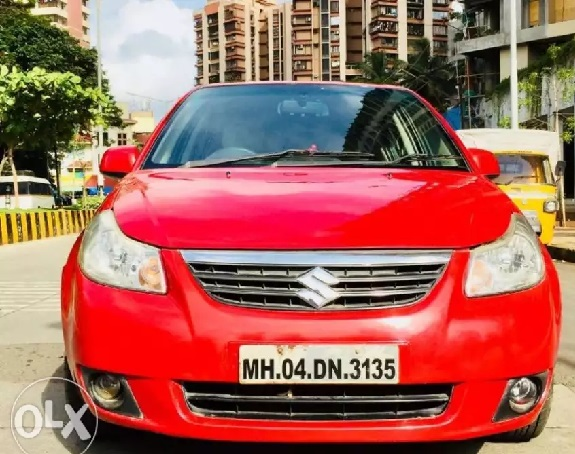licenseplate: (236, 341, 401, 386)
